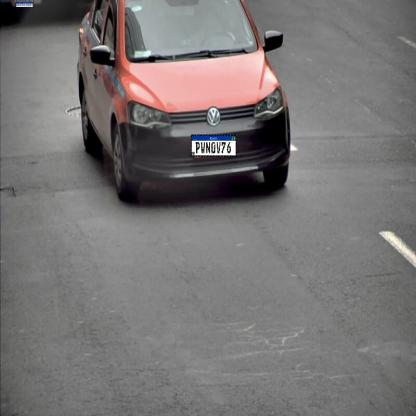PlacaM: (190, 134, 236, 156), (16, 2, 33, 7)
